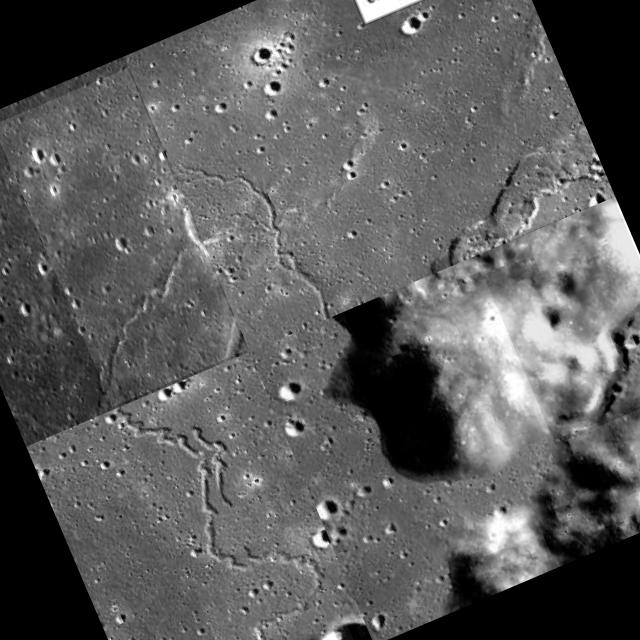rille: (136, 0, 613, 348), (0, 67, 247, 406), (102, 366, 290, 595), (474, 196, 640, 444), (185, 519, 357, 640), (189, 414, 252, 509)
